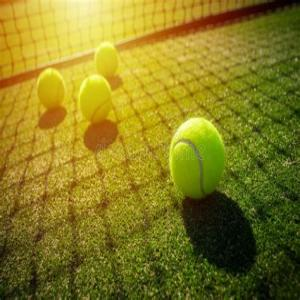Tennis: (166, 111, 226, 204), (78, 73, 114, 126), (32, 64, 68, 116), (92, 42, 120, 80)
